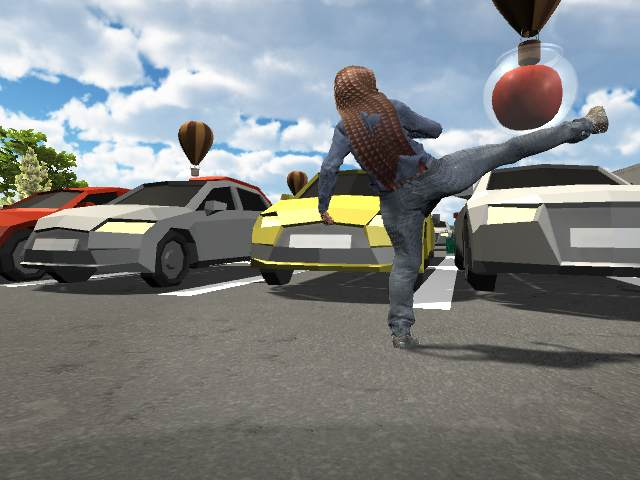turn_right: (318, 66, 612, 351)
